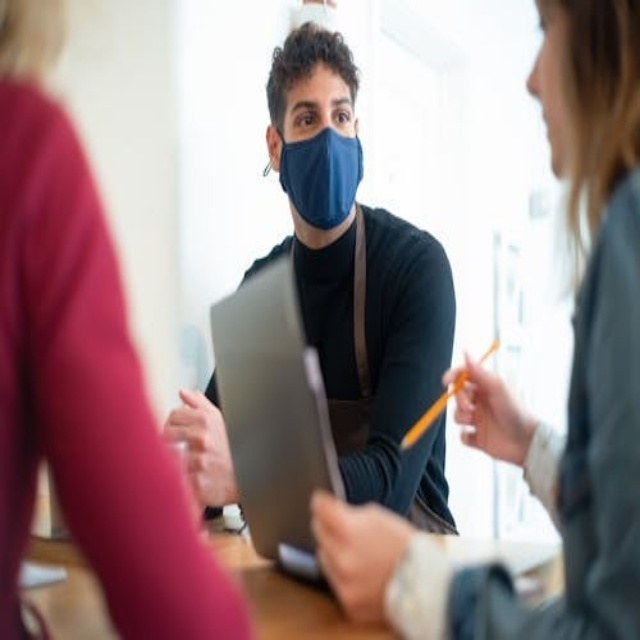Mascara: (276, 122, 363, 229)
Sin_gafas: (285, 94, 358, 132)
Sin_guantes: (307, 488, 420, 633), (447, 349, 538, 475), (163, 386, 237, 513)
Sin_mascara: (529, 88, 571, 186)
